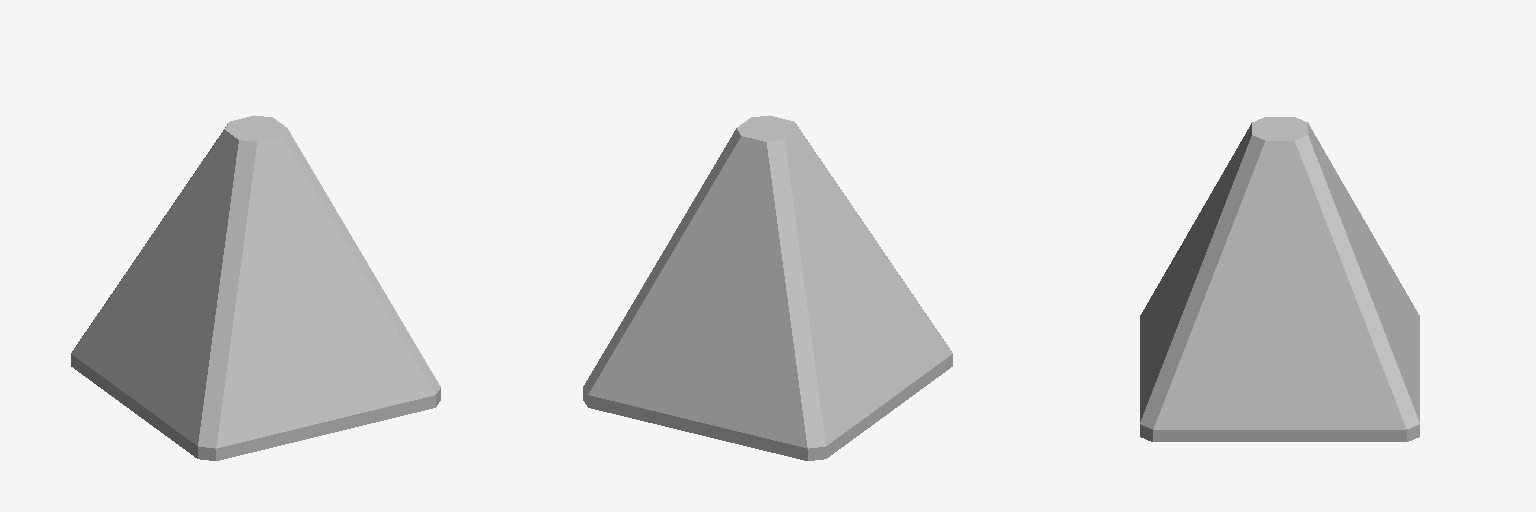
File: placeholder.obj
The picture shows the model from 3 angles: view 1: azimuth 30°, elevation 25°; view 2: azimuth 150°, elevation 25°; view 3: azimuth 270°, elevation 25°; orthographic projection.
Visible parts, largest first — view 1: Cube; view 2: Cube; view 3: Cube.
Boxes of the visible parts, <box> form: Cube: <box>71,115,440,460</box>; Cube: <box>583,115,952,460</box>; Cube: <box>1140,117,1419,441</box>.
Bounding box in the file's own units: 1 × 1 × 1.